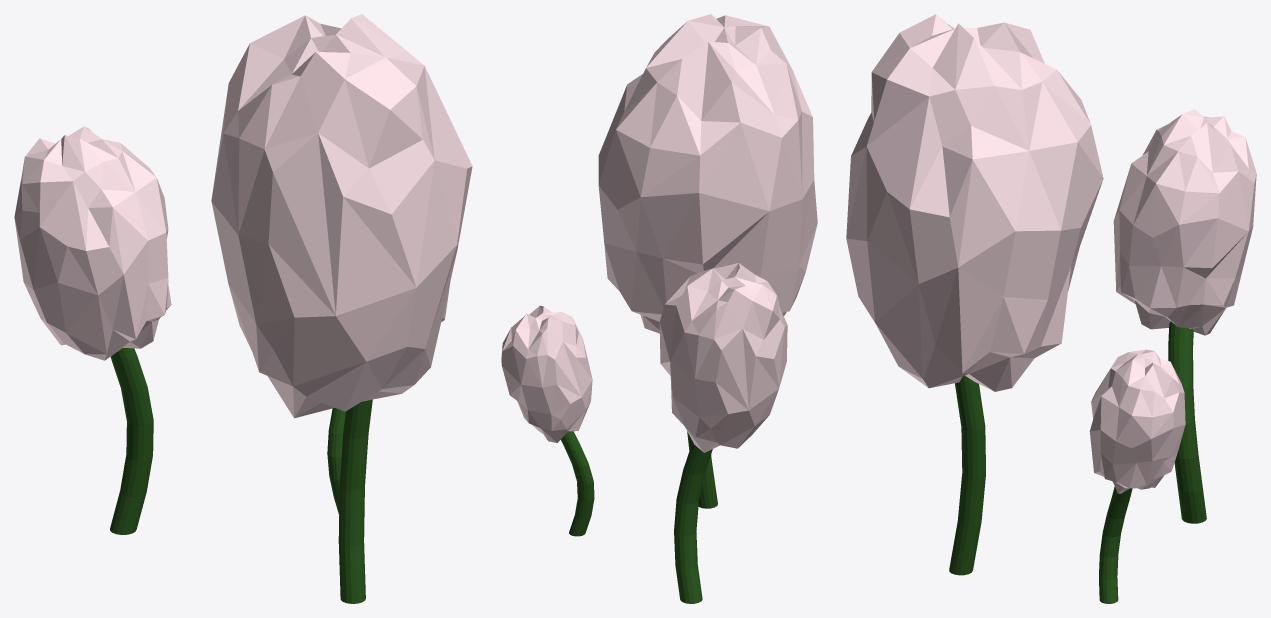
File: Pot_1d_plant.fbx
The picture shows the model from 3 angles, left to right: view 1: azimuth 30°, elevation 25°; view 2: azimuth 150°, elevation 25°; view 3: azimuth 270°, elevation 25°; orthographic projection. The views are drawn at different scales.
Parts seen in each view (by area): view 1: Sphere.002; view 2: Sphere.002; view 3: Sphere.002.
Part boxes in pixels (left/top/right/bottom): Sphere.002: left=14, top=14, right=472, bottom=603; Sphere.002: left=501, top=14, right=817, bottom=603; Sphere.002: left=846, top=14, right=1256, bottom=603.
Bounding box in the file's own units: 76.92 × 122 × 83.39.
